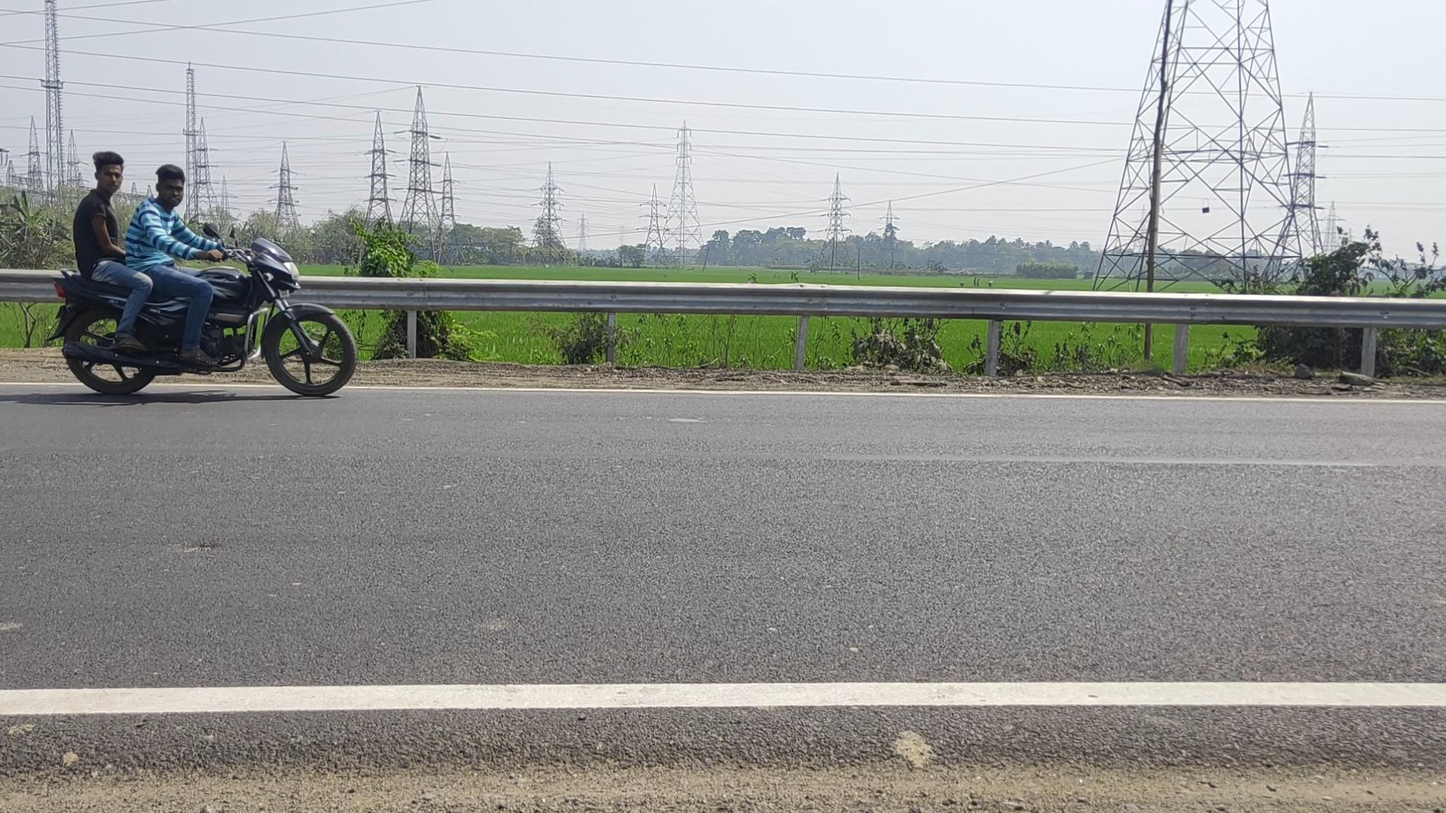bike: (45, 151, 358, 397)
